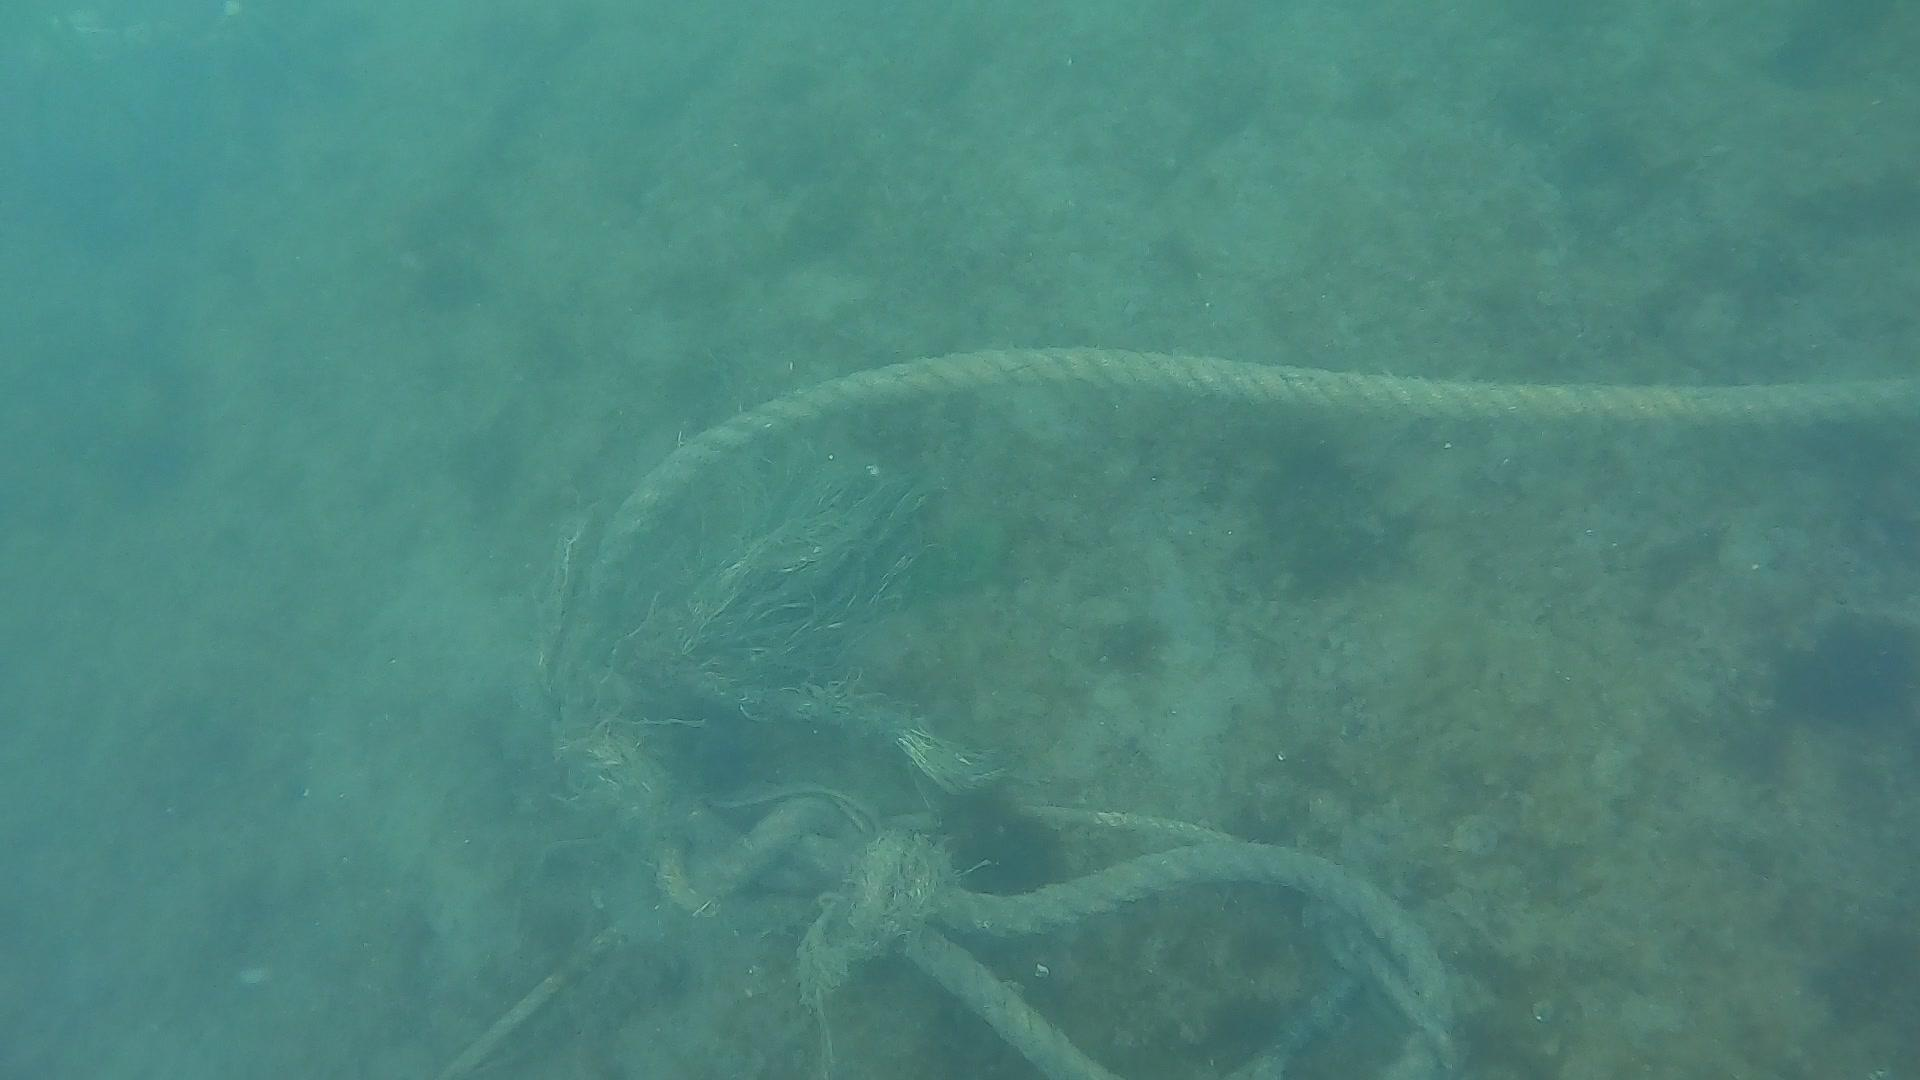bundle of ropes: (538, 339, 1915, 1080)
